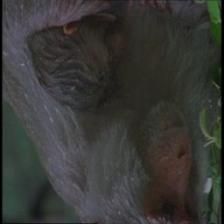monkey: (136, 87, 223, 223), (85, 4, 131, 110)
